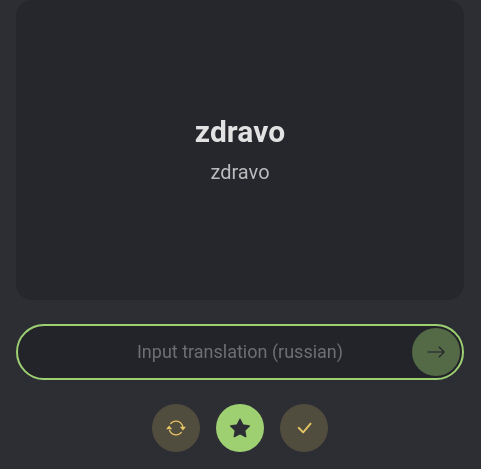
Test: Home › handleNext skips autoAddRankedToFavorites when word already favorite
This screenshot has width=481, height=469.
Check: the button with aria-label "tap to see translation" is shown, box top-left (16, 0), bottom-right (464, 300)
Step 1. Type "wrong" into the field labelled "Input translation (russian)" → (240, 352), box top-left (68, 326), bottom-right (412, 378)
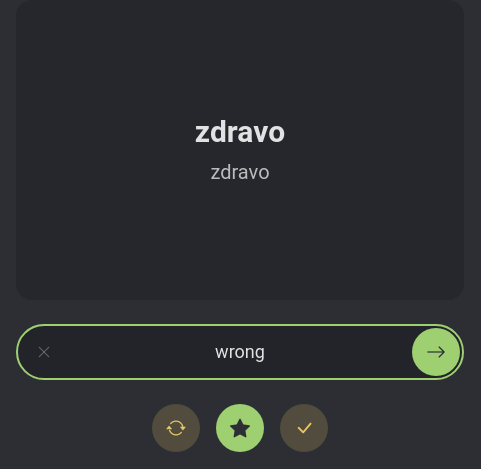
Step 2. Click the button named "check" → (436, 352), box top-left (412, 328), bottom-right (460, 376)
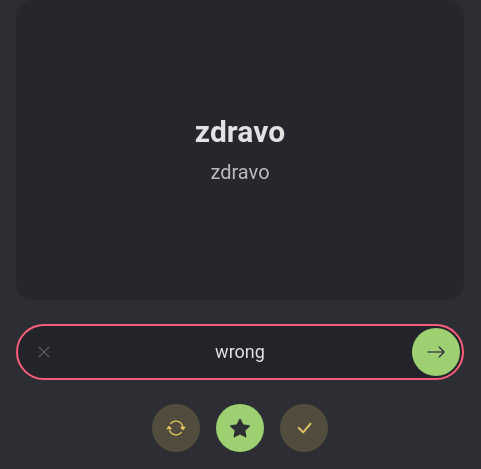
Step 3. Click the button with aria-label "tap to see translation" → (240, 150), box top-left (16, 0), bottom-right (464, 300)
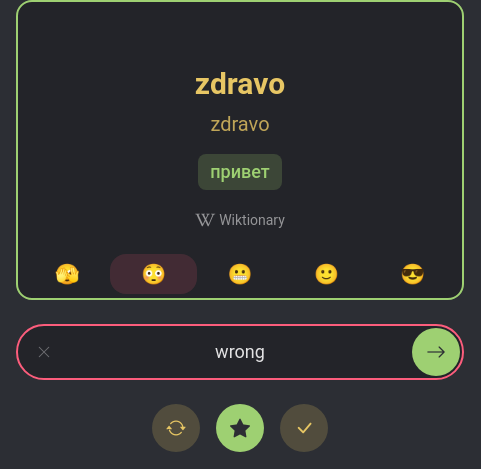
Check: the button with aria-label "card with translation" is shown, box top-left (16, 0), bottom-right (464, 300)
Step 4. Click the button titled "Skip to next word (Random pick)" → (176, 428), box top-left (152, 404), bottom-right (200, 452)
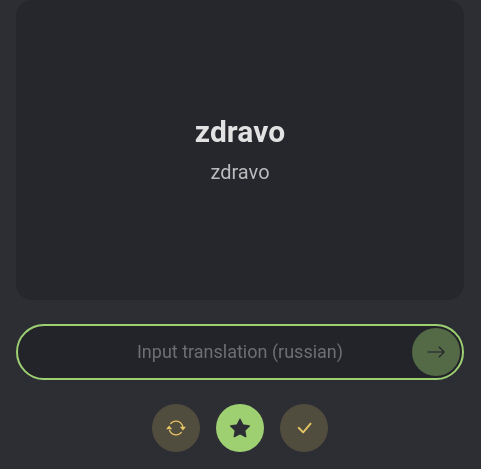
Check: the button with aria-label "tap to see translation" is shown, box top-left (16, 0), bottom-right (464, 300)
